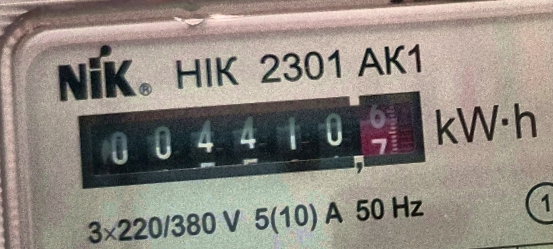0: (105, 127, 130, 167), (322, 110, 344, 148), (151, 122, 171, 161)
1: (282, 114, 299, 152)
4: (191, 115, 216, 155), (234, 113, 259, 153)
6: (368, 102, 387, 129)
7: (368, 135, 388, 156)
screen: (64, 74, 438, 202)
